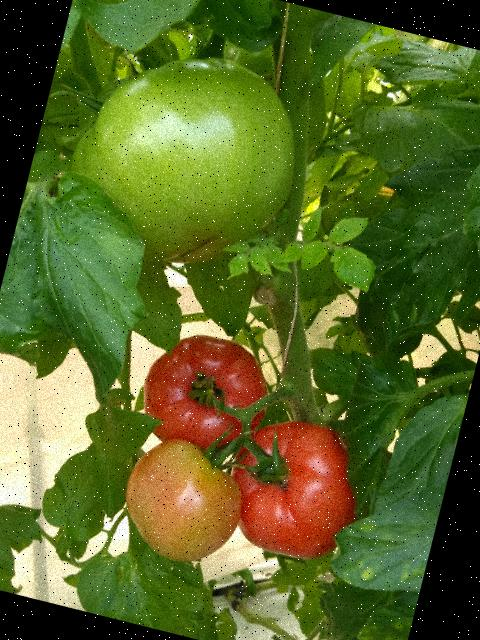b_fully_ripened: (132, 323, 281, 462)
b_green: (54, 29, 318, 290)
b_half_ripened: (213, 405, 377, 570), (112, 430, 255, 574)
